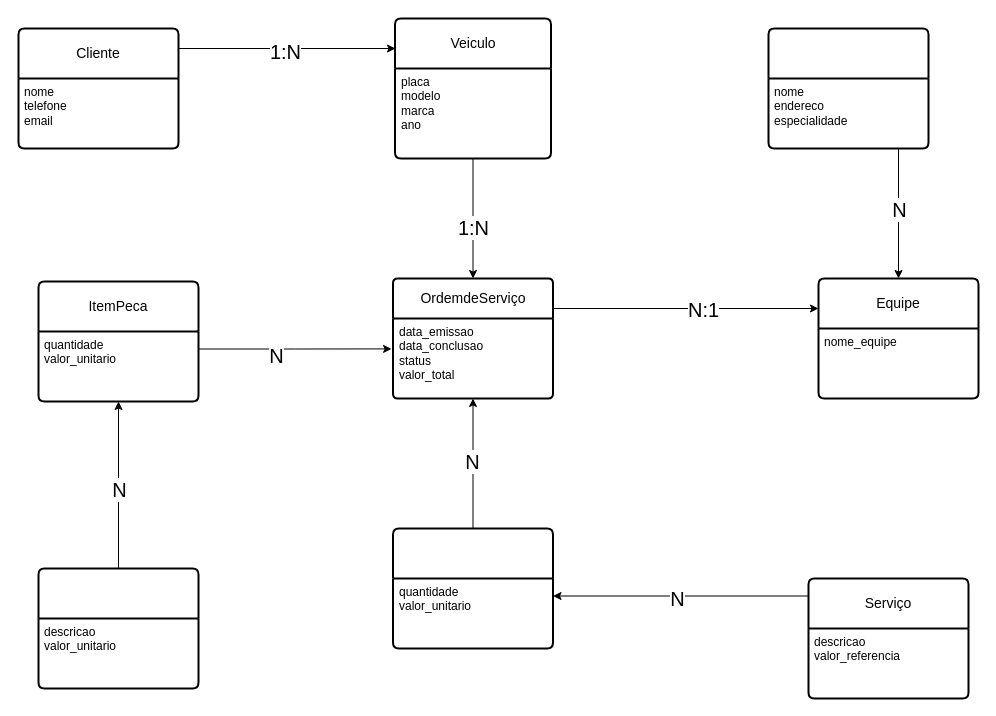
Some shapes in this 996 by 716 pixel diagram are drawn without their labels. The box of each missing label's shape, as (x1, y1, x2, y2) in pixels:
ItemServico: (392, 527, 554, 649)
Mecanico: (767, 27, 929, 149)
Peca: (37, 567, 199, 689)
